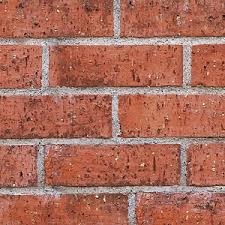brick: (48, 46, 183, 88), (43, 145, 180, 184), (1, 95, 112, 139), (119, 95, 225, 138), (1, 1, 113, 39), (119, 1, 225, 37), (1, 195, 128, 225), (135, 193, 225, 224), (1, 44, 42, 89), (1, 144, 37, 186), (188, 145, 225, 184), (191, 44, 224, 87)
